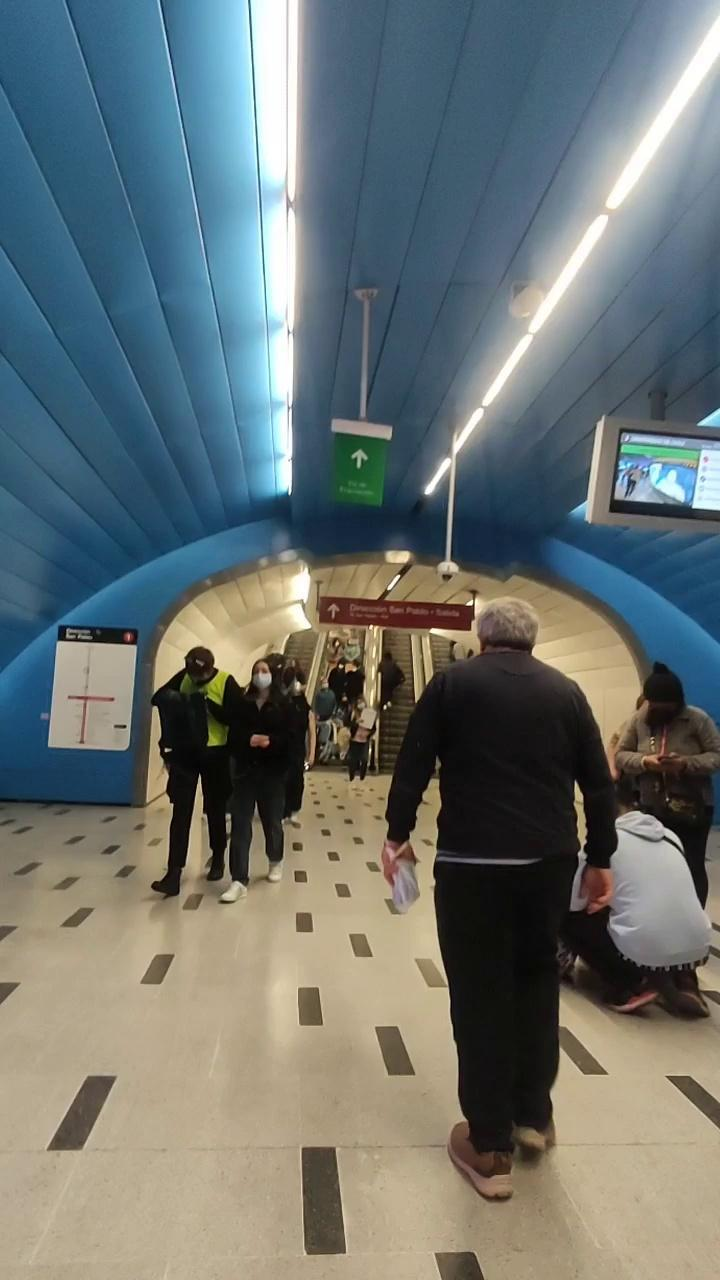up arrow: (325, 602, 347, 624)
